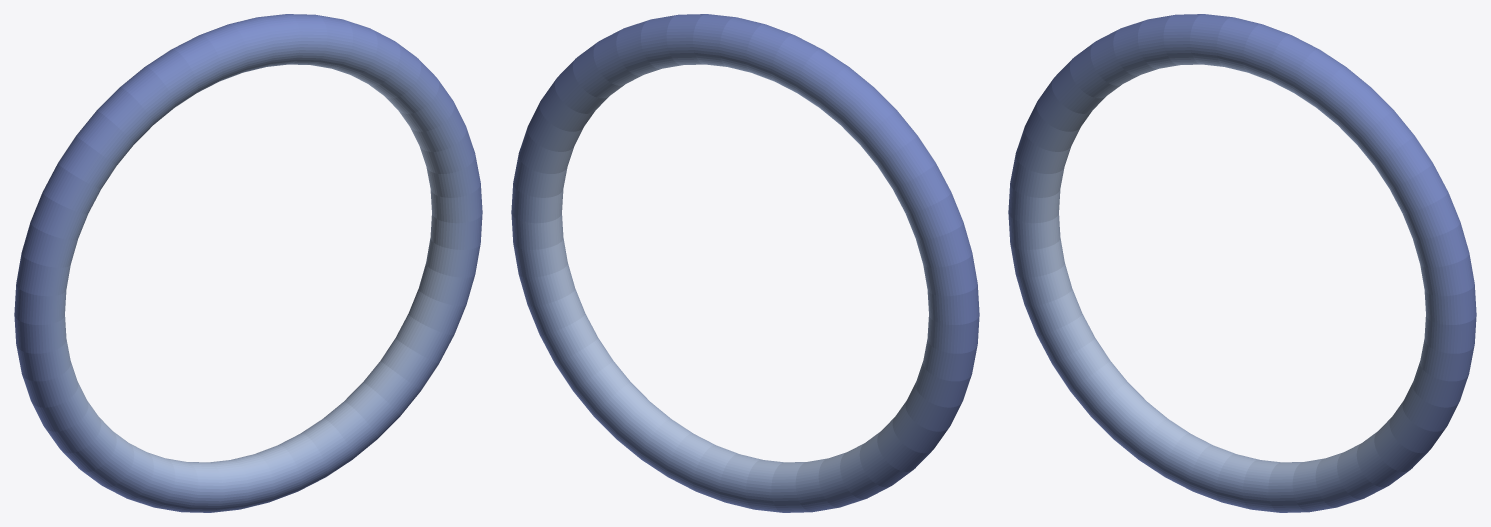
3 views of the same model, side by side, from view 1: azimuth 30°, elevation 25°; view 2: azimuth 150°, elevation 25°; view 3: azimuth 330°, elevation 25° (orthographic).
Visible parts, largest first — view 1: world; view 2: world; view 3: world.
Boxes of the visible parts, box(x1,y1,x2,y2) form: world: box(14, 14, 482, 512); world: box(511, 14, 979, 512); world: box(1008, 14, 1476, 512).
Size of the model in its own units: 29.47 by 29.41 by 2.79.
